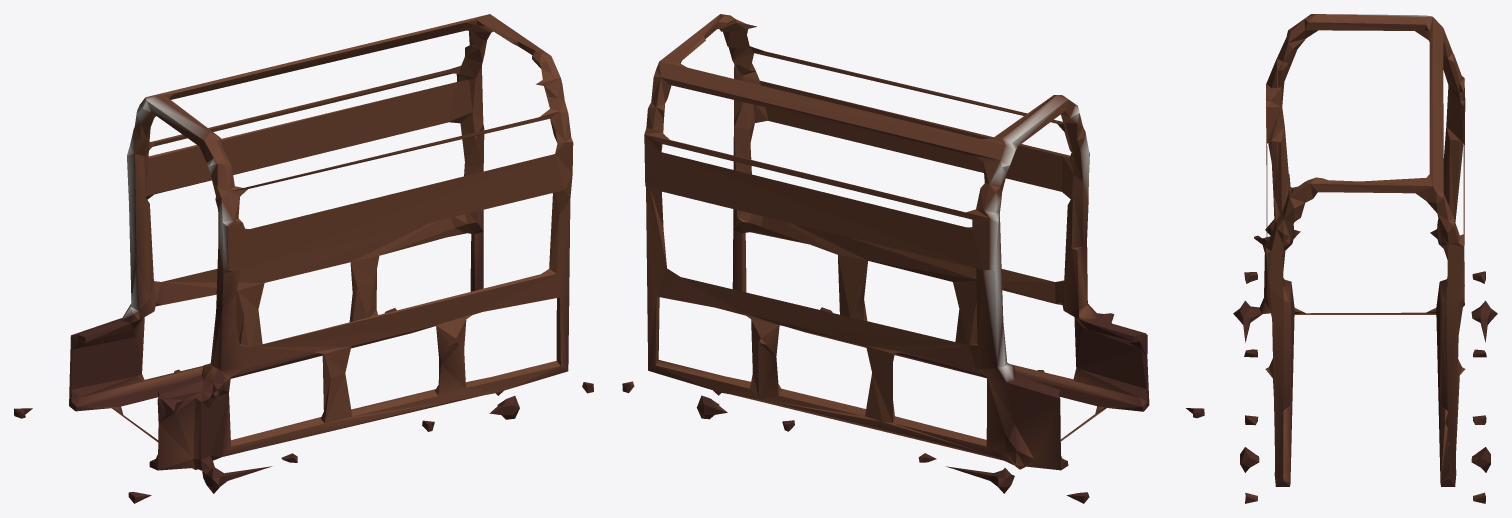
The model's file is Carts and Wagons(1).glb.
3 views of the same model, side by side, from view 1: azimuth 30°, elevation 25°; view 2: azimuth 150°, elevation 25°; view 3: azimuth 270°, elevation 25° (orthographic).
Parts seen in each view (by area): view 1: Root; view 2: Root; view 3: Root.
Part boxes in pixels (<box>): Root: <box>14,14,593,503</box>; Root: <box>622,14,1204,503</box>; Root: <box>1233,14,1497,503</box>.
Bounding box in the file's own units: 3.29 × 2.24 × 1.64.
